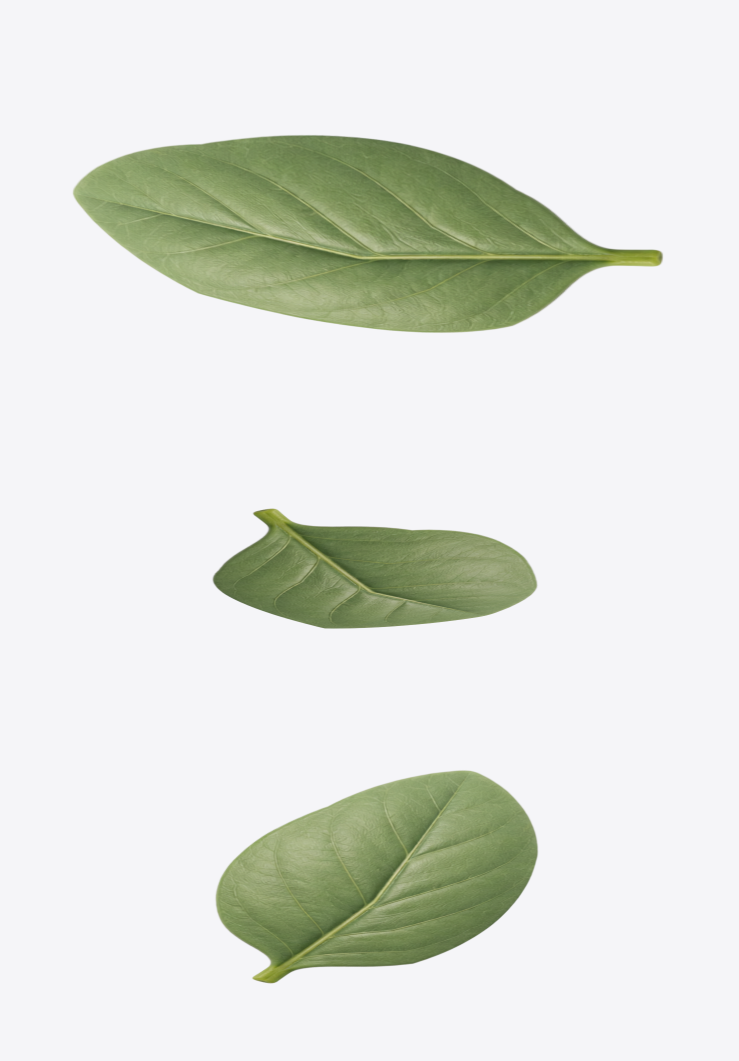
Rendered from hoja05.glb.
The picture shows the model from 3 angles, top to bottom: view 1: azimuth 30°, elevation 25°; view 2: azimuth 150°, elevation 25°; view 3: azimuth 270°, elevation 25°; orthographic projection. The views are drawn at different scales.
Parts seen in each view (by area): view 1: Object_2; view 2: Object_2; view 3: Object_2.
Boxes of the visible parts, x1,y1,x2,y2 form: Object_2: [72, 134, 663, 332]; Object_2: [212, 508, 537, 628]; Object_2: [215, 770, 538, 983].
Size of the model in its own units: 0.4795 by 0.0557 by 0.4787.
Materials: 1 (1 with a texture image).
